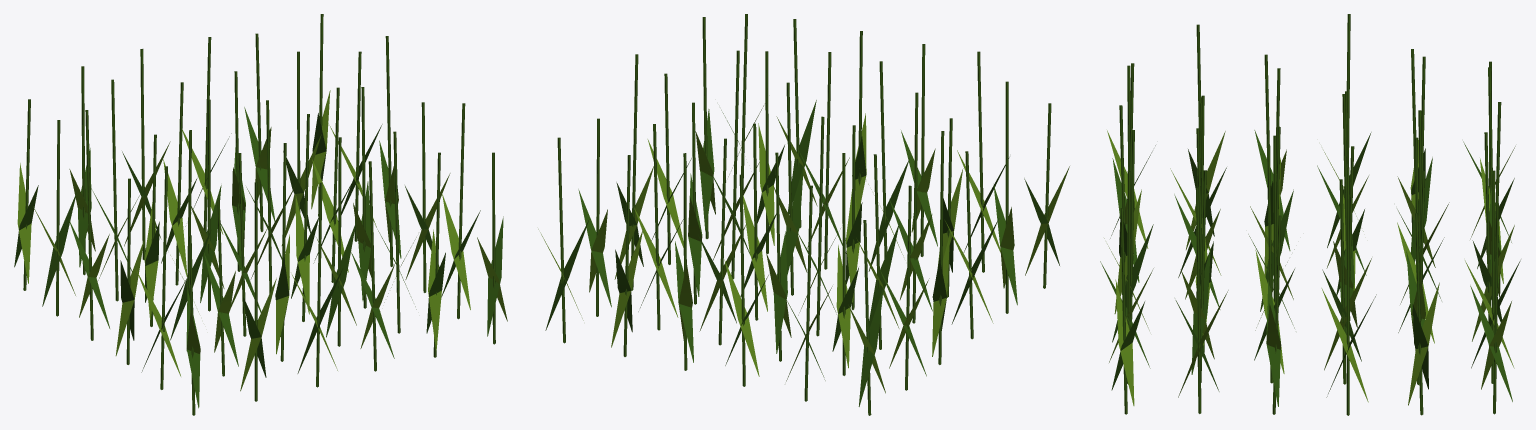
File: crop-cell-wheat-young.obj
3 views of the same model, side by side, from view 1: azimuth 30°, elevation 25°; view 2: azimuth 150°, elevation 25°; view 3: azimuth 270°, elevation 25° (orthographic). The views are drawn at different scales.
Visible parts, largest first — view 1: crop-cell-wheat-young; view 2: crop-cell-wheat-young; view 3: crop-cell-wheat-young.
Boxes of the visible parts, x1,y1,x2,y2 form: crop-cell-wheat-young: [14, 14, 507, 415]; crop-cell-wheat-young: [538, 14, 1069, 415]; crop-cell-wheat-young: [1100, 14, 1520, 415].
Size of the model in its own units: 0.5947 by 0.3788 by 0.5916.
1 material, 1 textured.
